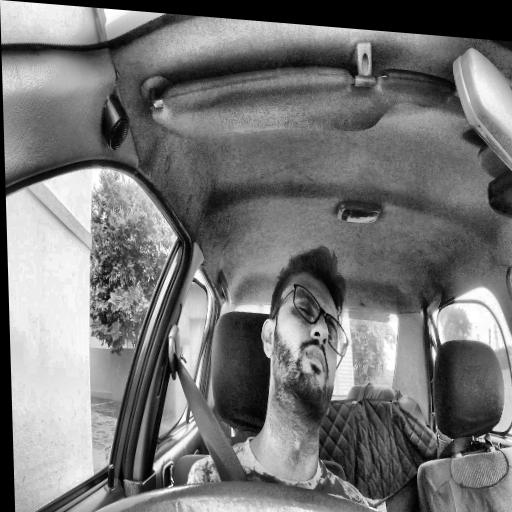drowsy: (258, 241, 351, 429)
